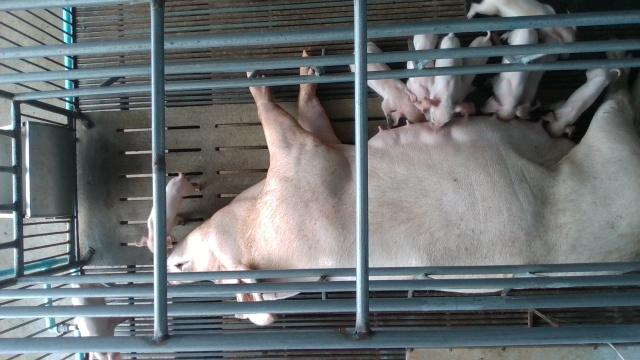piglet: (127, 172, 201, 259), (349, 42, 425, 124), (540, 68, 620, 138), (479, 28, 531, 121), (70, 283, 131, 360), (467, 0, 577, 42), (426, 32, 468, 133), (406, 33, 440, 121), (460, 31, 491, 116)
sow-sleep-lactate: (169, 50, 640, 327)
